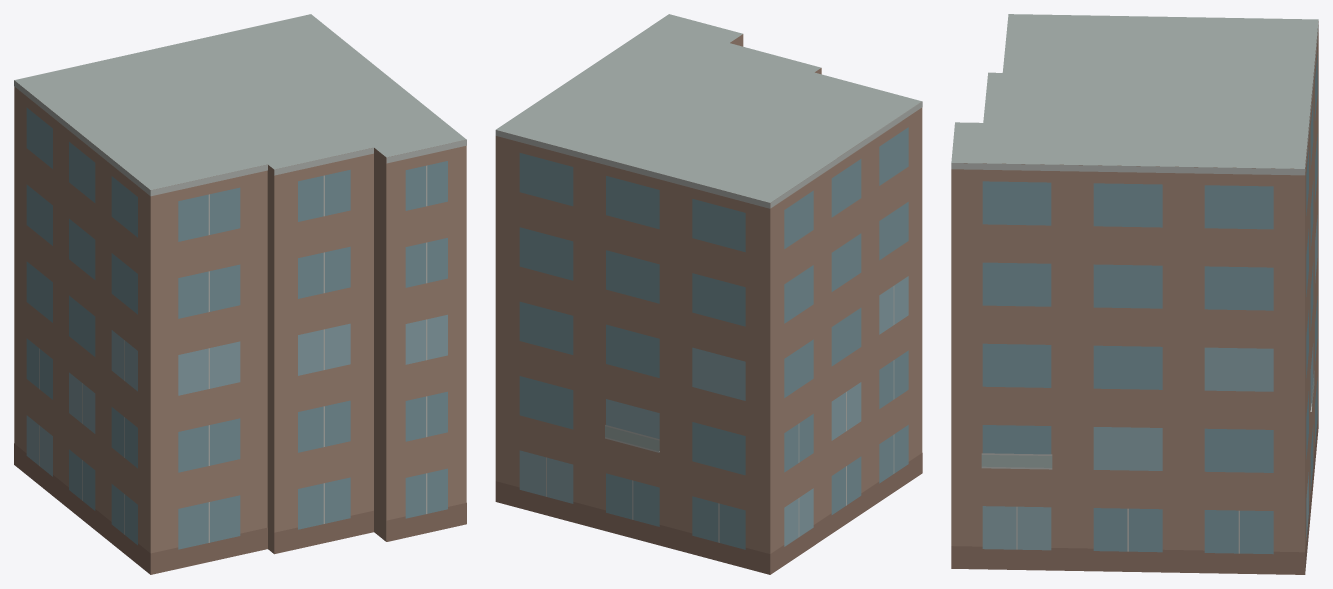
The model's file is survey-upis-32991110.glb.
3 renders of one model, left to right at view 1: azimuth 30°, elevation 25°; view 2: azimuth 150°, elevation 25°; view 3: azimuth 270°, elevation 25°, orthographic. The views are drawn at different scales.
Parts seen in each view (by area): view 1: survey-upis-32991110.tmp; view 2: survey-upis-32991110.tmp; view 3: survey-upis-32991110.tmp.
Boxes of the visible parts, x1=… form: survey-upis-32991110.tmp: x1=14, y1=14, x2=466, y2=574; survey-upis-32991110.tmp: x1=495, y1=14, x2=922, y2=574; survey-upis-32991110.tmp: x1=951, y1=14, x2=1318, y2=574.
Bounding box in the file's own units: 12.62 × 15.4 × 12.64.
